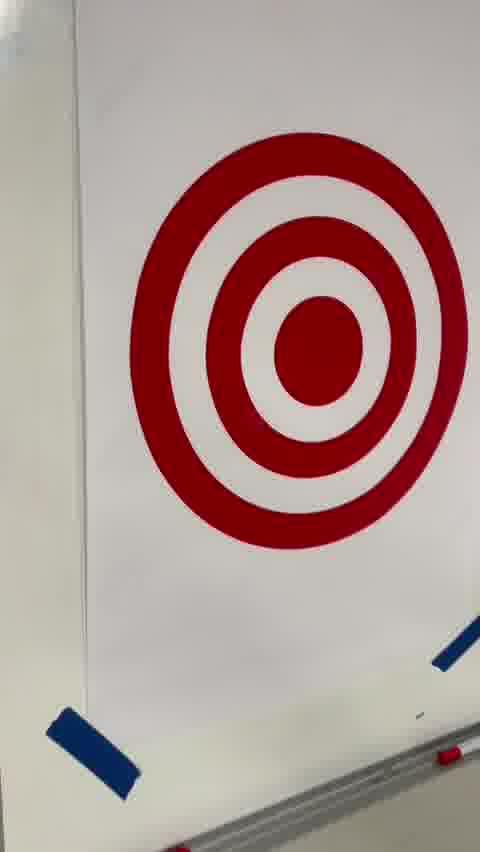target_red: (129, 130, 470, 549)
